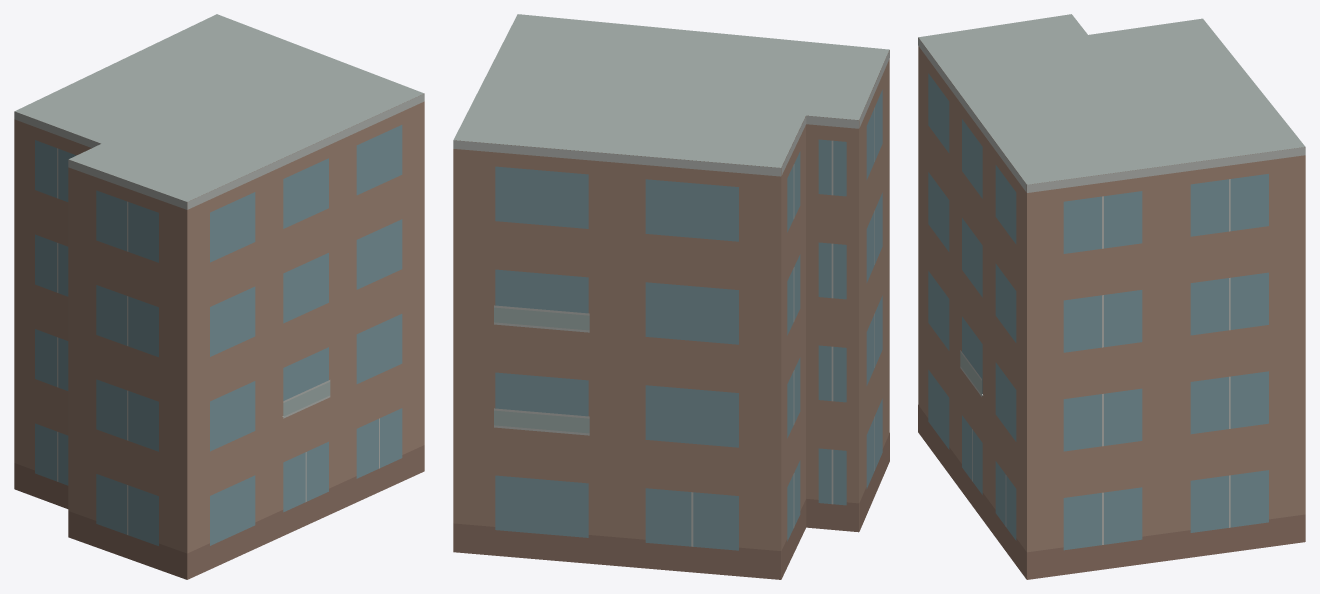
File: survey-upis-32748004.glb
3 views of the same model, side by side, from view 1: azimuth 30°, elevation 25°; view 2: azimuth 150°, elevation 25°; view 3: azimuth 270°, elevation 25° (orthographic). The views are drawn at different scales.
Parts seen in each view (by area): view 1: survey-upis-32748004.tmp; view 2: survey-upis-32748004.tmp; view 3: survey-upis-32748004.tmp.
Boxes of the visible parts, x1,y1,x2,y2 form: survey-upis-32748004.tmp: (14,14,424,579); survey-upis-32748004.tmp: (453,14,889,579); survey-upis-32748004.tmp: (918,14,1305,579).
Size of the model in its own units: 10.76 by 11.6 by 10.32.
